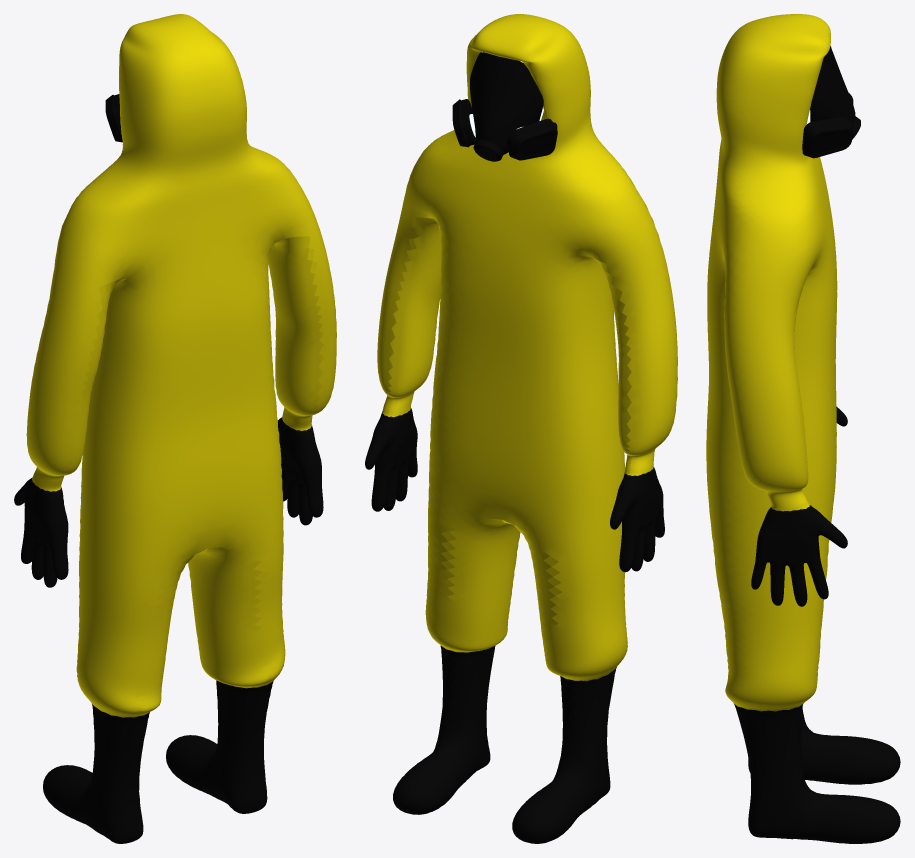
The model's file is escape_the_backrooms_player__rigged.glb.
3 views of the same model, side by side, from view 1: azimuth 30°, elevation 25°; view 2: azimuth 150°, elevation 25°; view 3: azimuth 270°, elevation 25° (orthographic). The views are drawn at different scales.
Parts seen in each view (by area): view 1: Cube_0; view 2: Cube_0; view 3: Cube_0.
Part boxes in pixels (x1,y1,x2,y2): Cube_0: (14, 14, 336, 843); Cube_0: (365, 14, 677, 843); Cube_0: (706, 14, 900, 843).
Bounding box in the file's own units: 0.7136 × 1.83 × 0.409.
